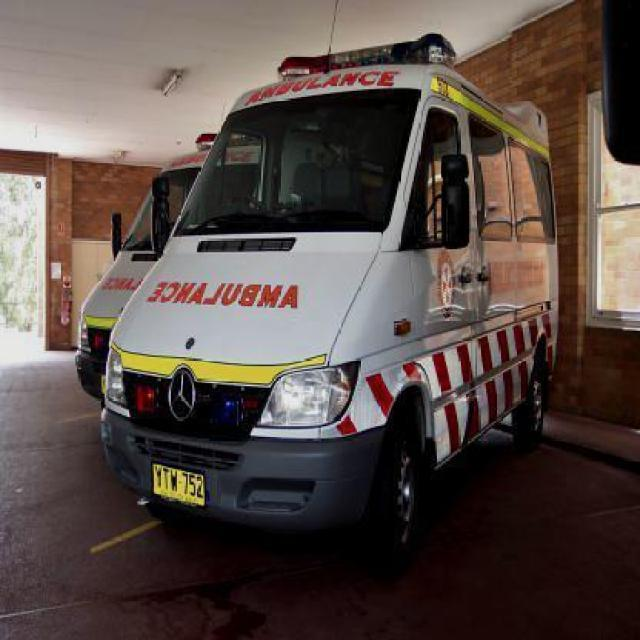emergency: (98, 32, 562, 562), (73, 128, 343, 418)
